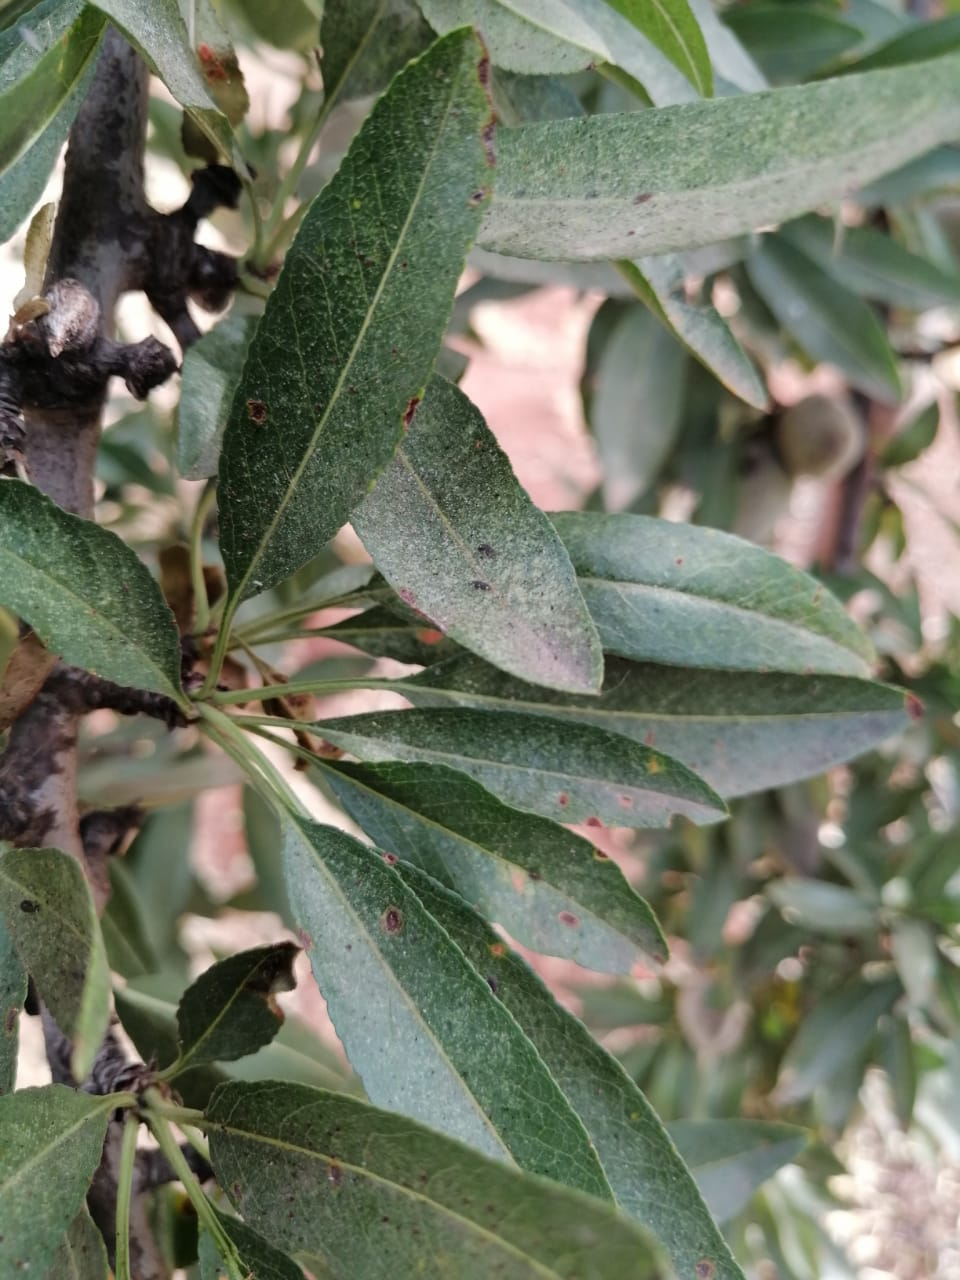acariens: (215, 23, 495, 602), (278, 815, 624, 1203), (398, 646, 925, 804), (314, 754, 674, 980)
